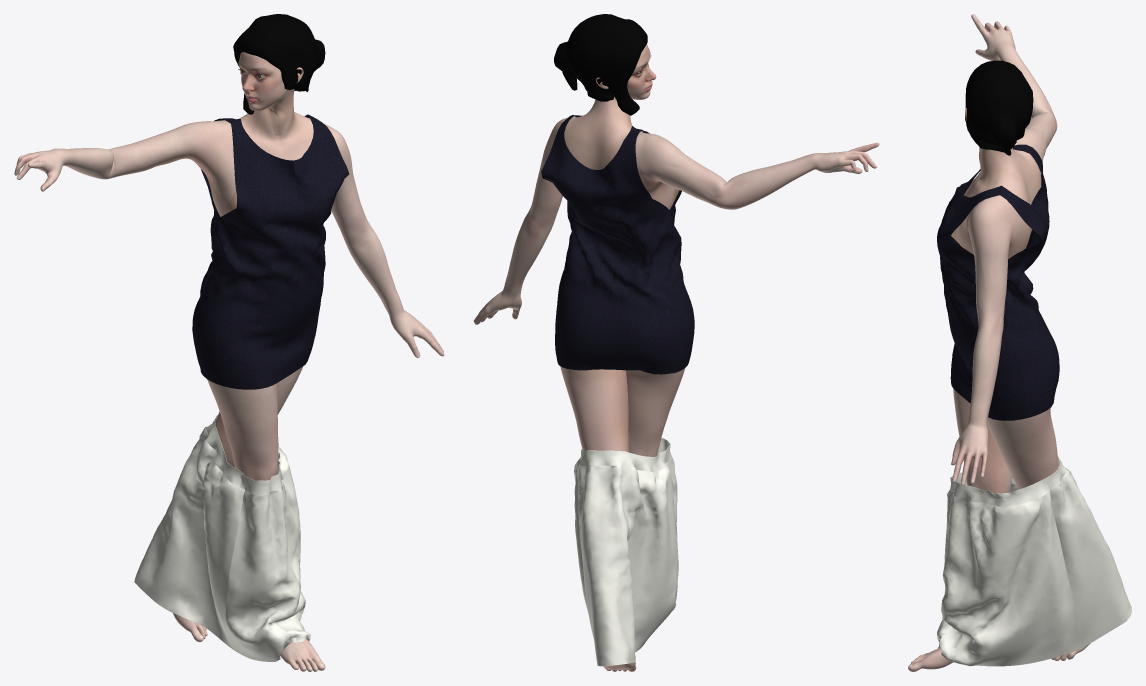
File: Dramatic.obj
The picture shows the model from 3 angles, left to right: view 1: azimuth 30°, elevation 25°; view 2: azimuth 150°, elevation 25°; view 3: azimuth 270°, elevation 25°; orthographic projection. The views are drawn at different scales.
Bounding box in the file's own units: 1226 × 1775 × 587.
